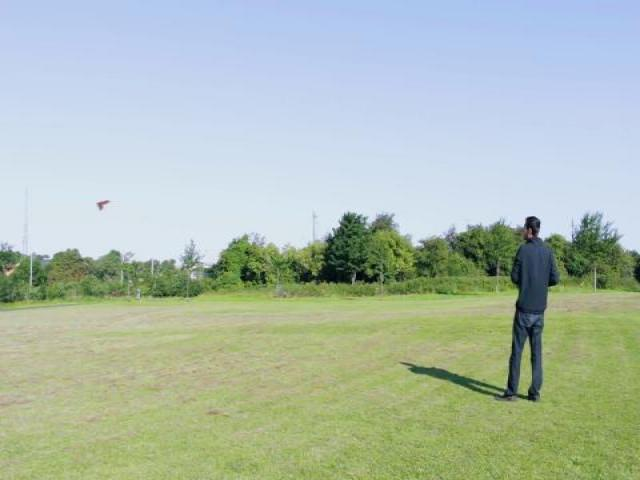flying wing: (93, 196, 112, 214)
